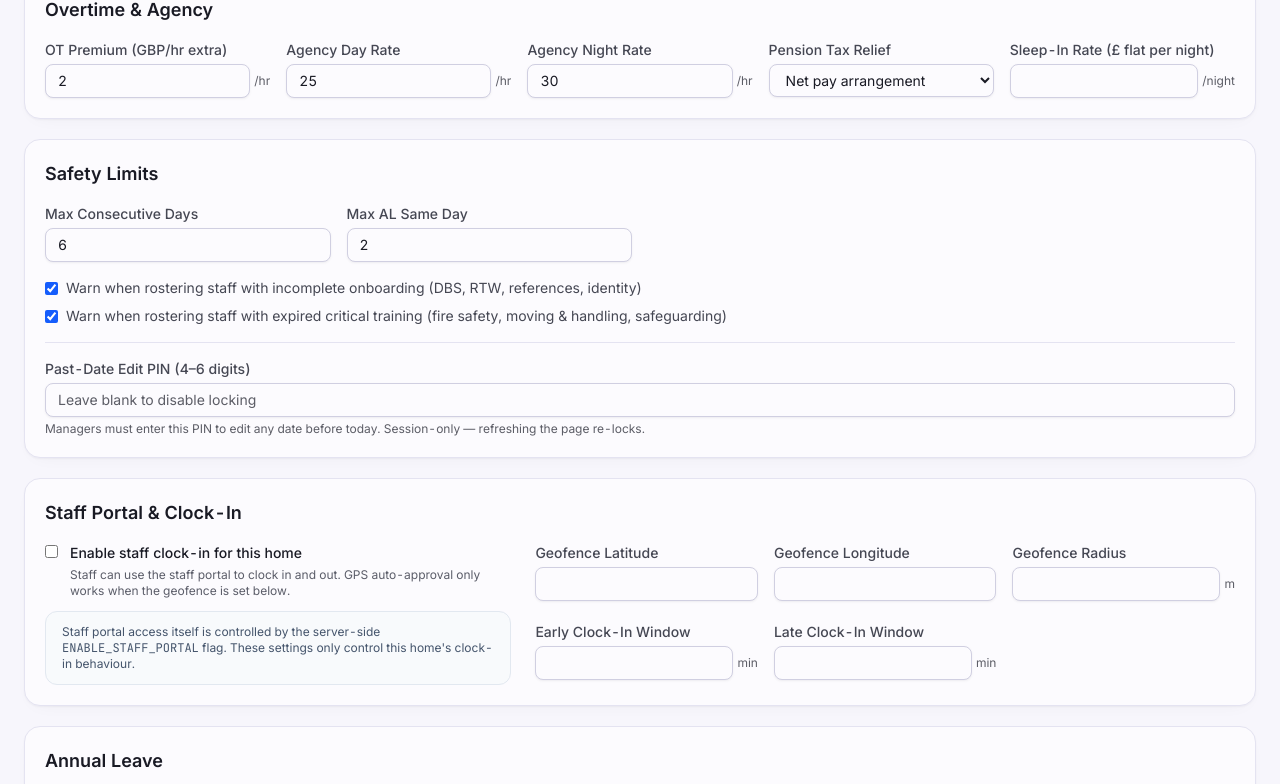
Test: Config › blocks saving a short past-date edit PIN
(page scrolled)
Type "123" into the password field labelled "Past-Date Edit PIN (4–6 digits)" at {"x": 640, "y": 400}, box left=45, top=383, right=1235, bottom=417
(page scrolled)
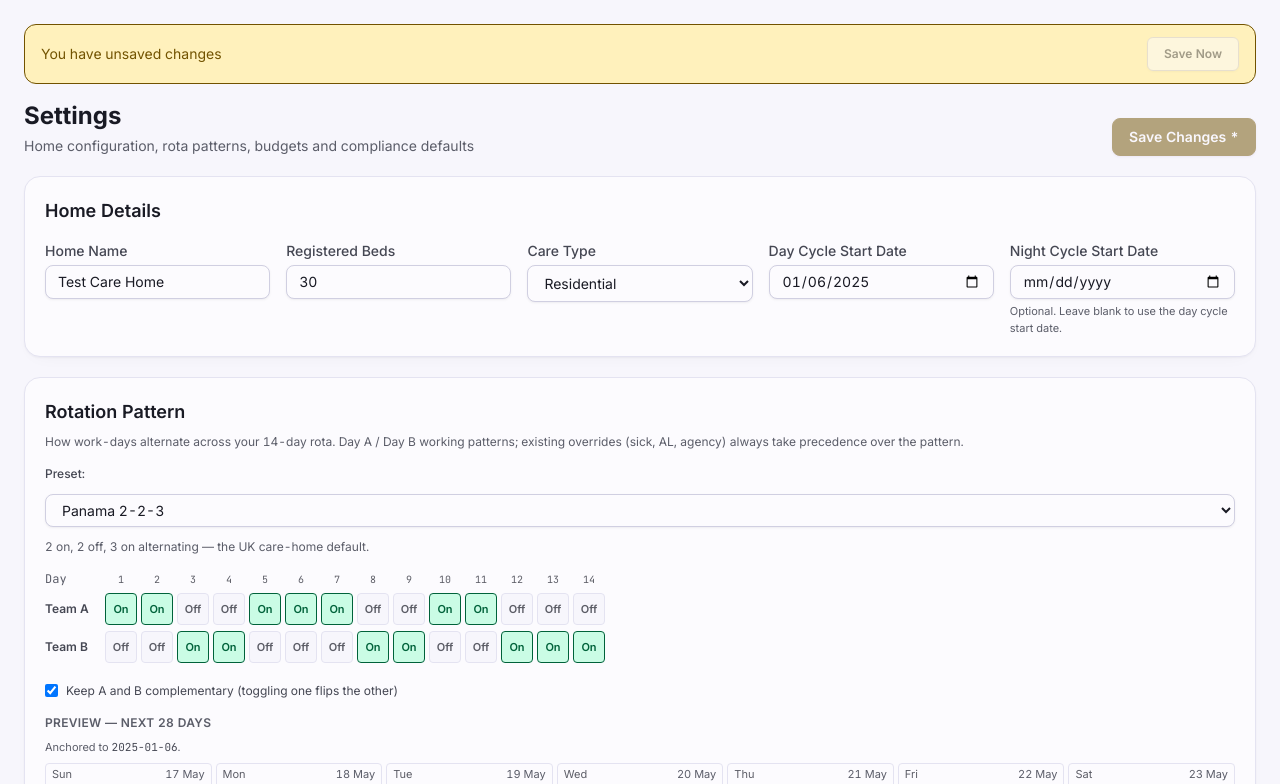
Expected: the button "Save Changes *" is disabled, left=1112, top=118, right=1256, bottom=156
Expected: the button "Save Now" is disabled, left=1147, top=37, right=1239, bottom=71
